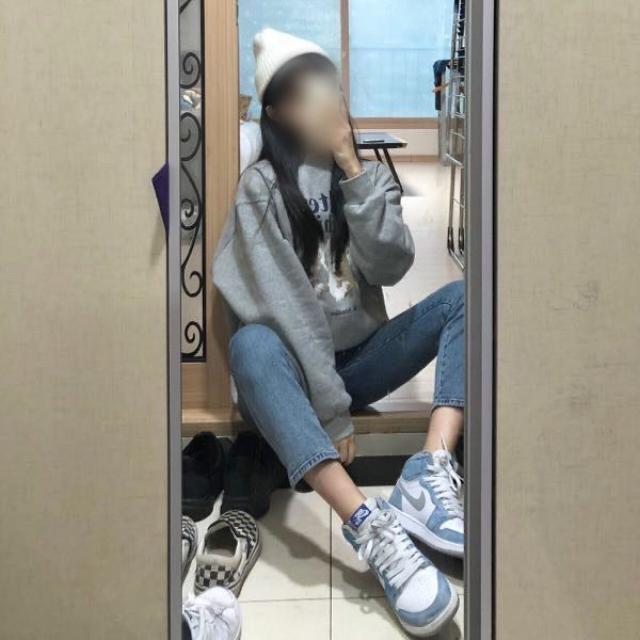denimpants: (230, 280, 468, 489)
mtm: (213, 151, 417, 437)
